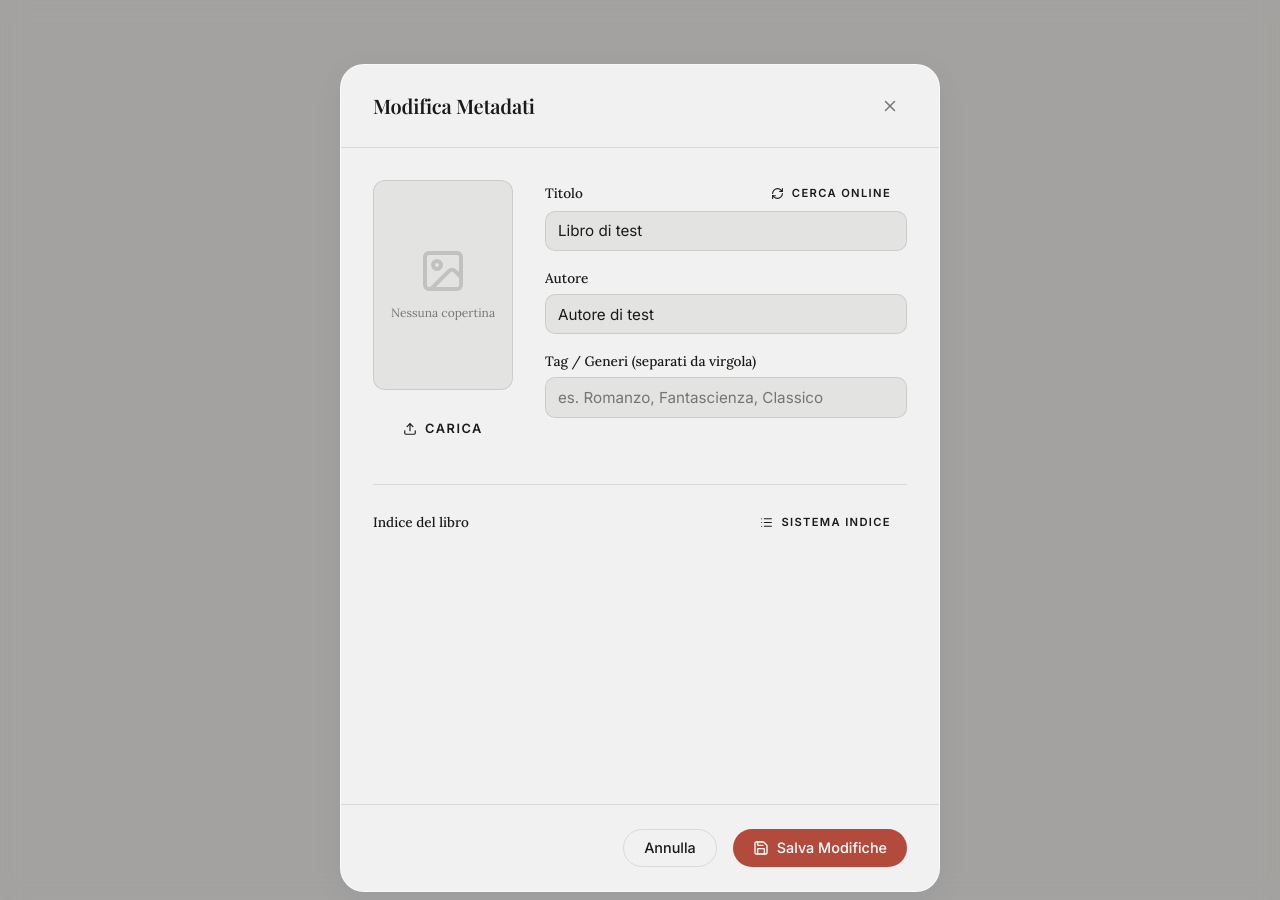
Test: EditMetadataModal TOC tools › shows an empty-state message when no chapters are found
Click the button "Sistema Indice": {"x": 826, "y": 522} [744,509,907,536]
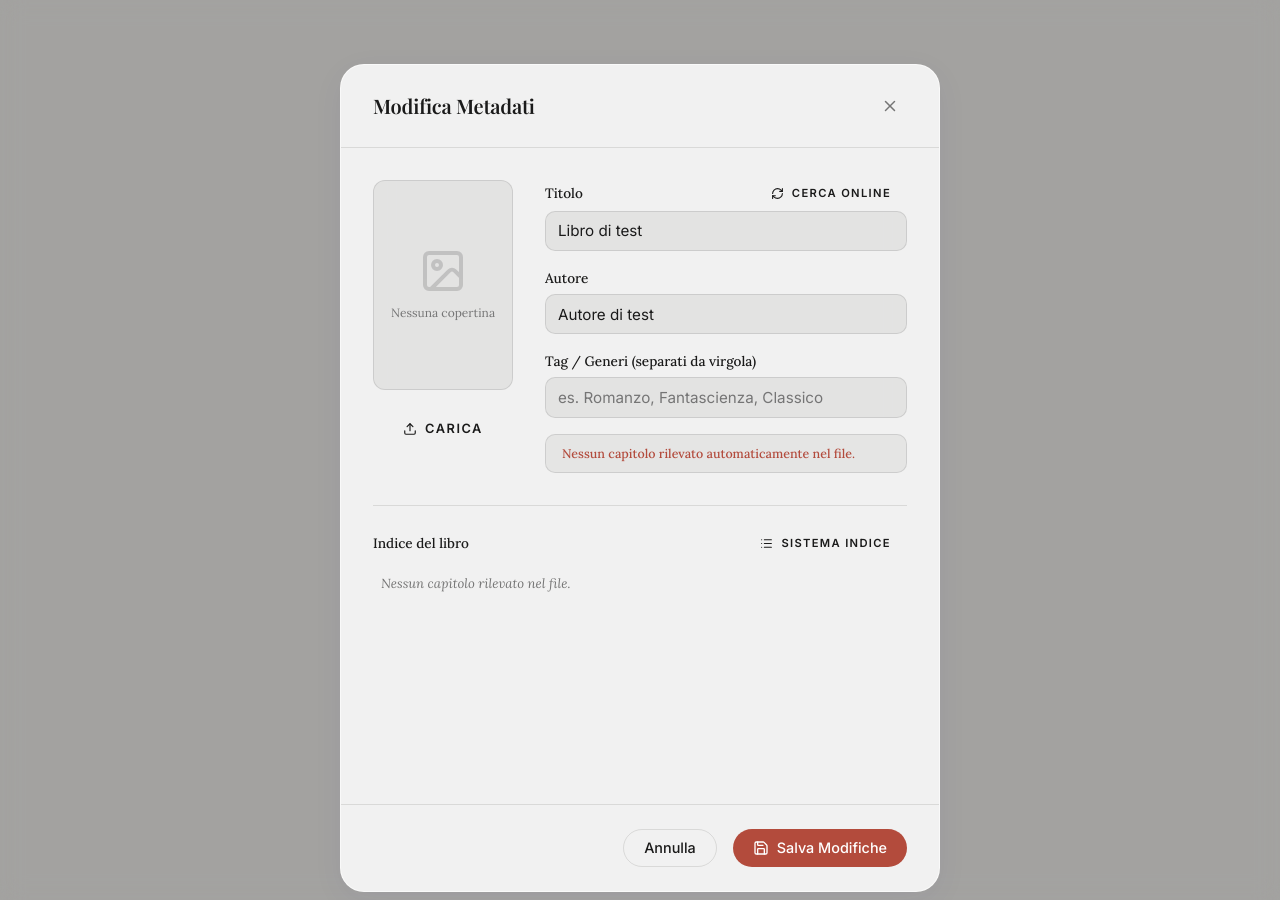
Expected: the text "Nessun capitolo rilevato nel file." is shown, [381,575,570,592]
